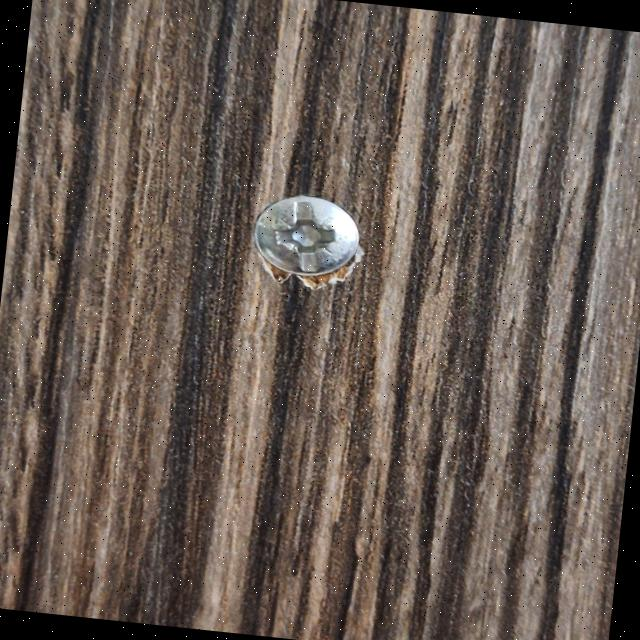Phillips: (238, 185, 366, 286)
